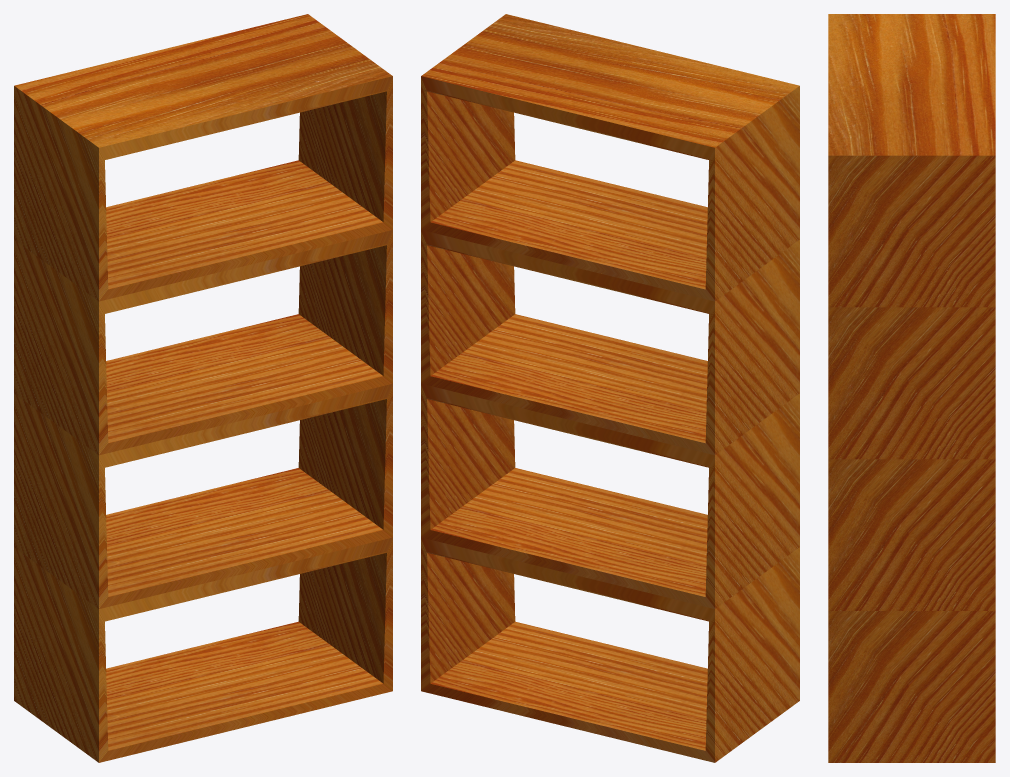
File: shelf.glb
3 views of the same model, side by side, from view 1: azimuth 30°, elevation 25°; view 2: azimuth 150°, elevation 25°; view 3: azimuth 270°, elevation 25° (orthographic).
Parts seen in each view (by area): view 1: Cube; view 2: Cube; view 3: Cube.
Part boxes in pixels (<box>): Cube: <box>14,14,392,762</box>; Cube: <box>421,14,799,762</box>; Cube: <box>828,14,995,762</box>.
Size of the model in its own units: 2 by 4 by 1.
Materials: 1 (1 with a texture image).
